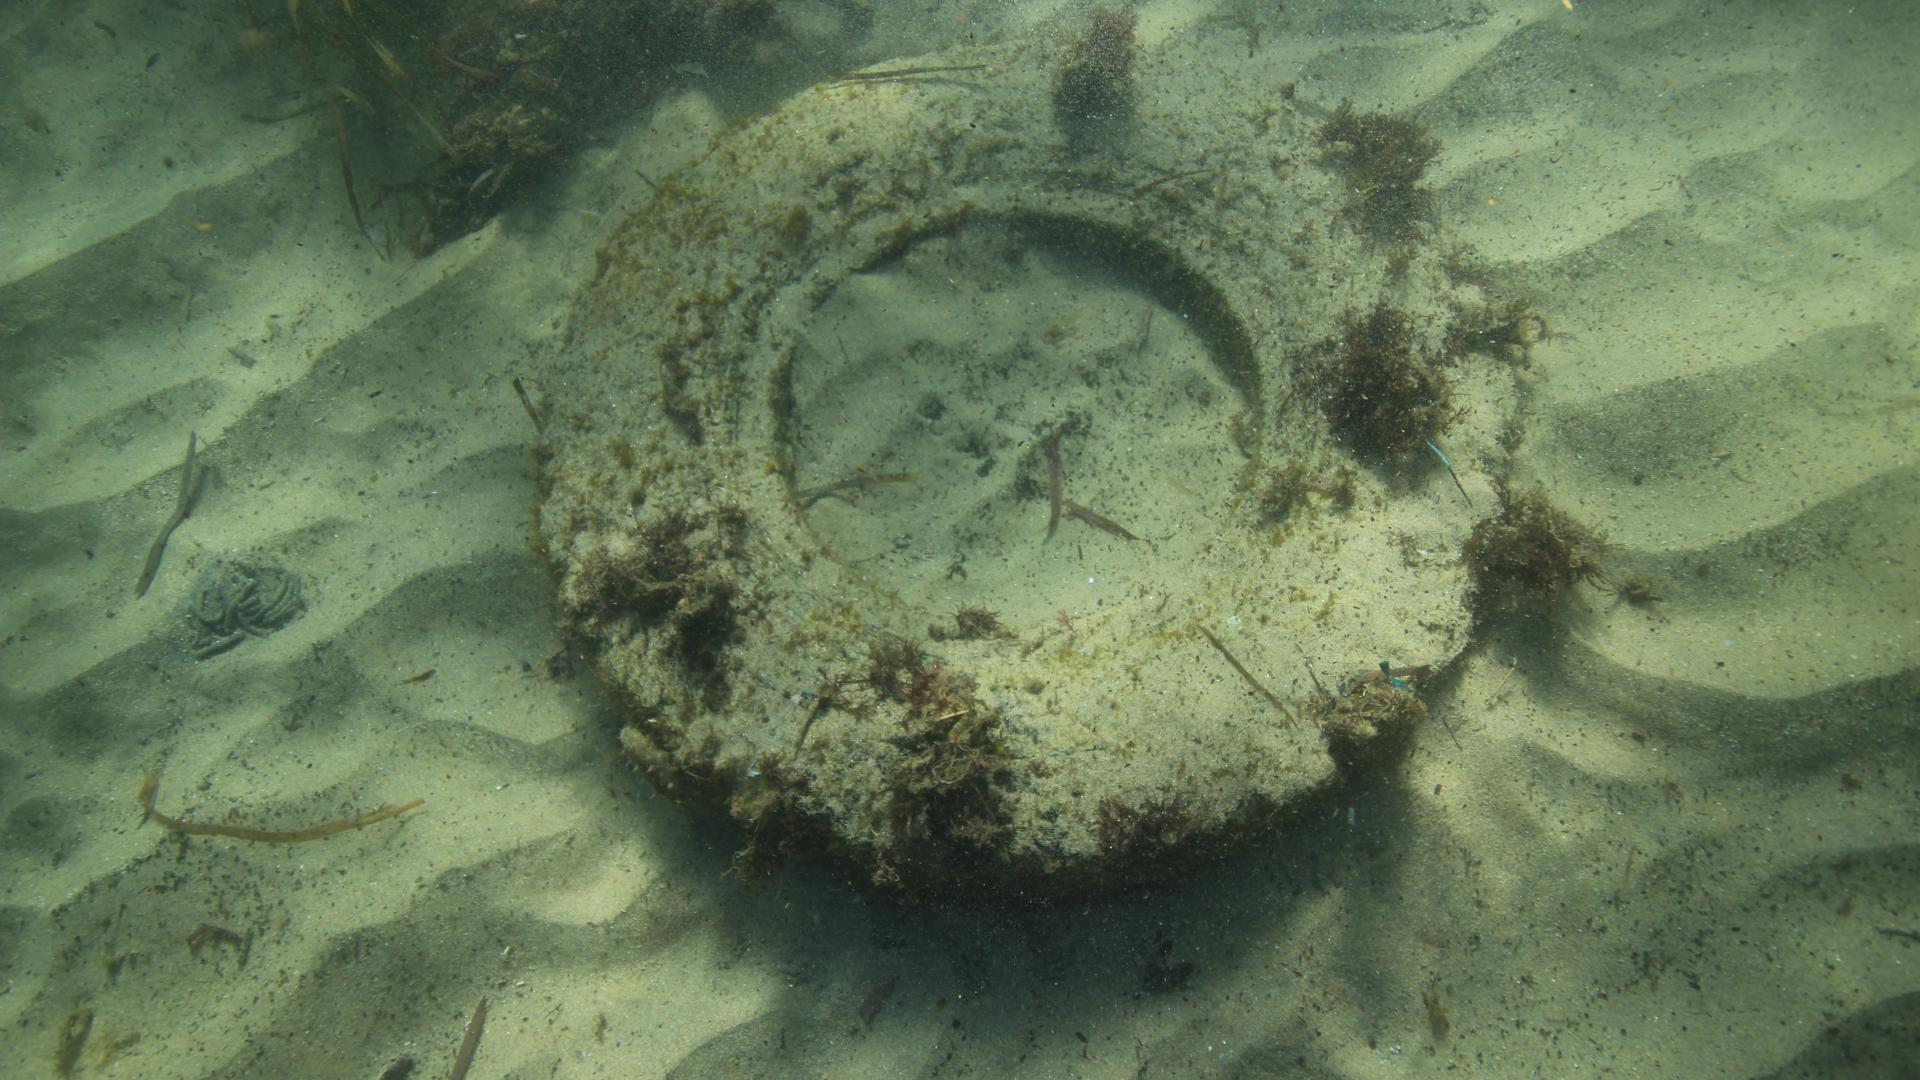tire: (534, 40, 1511, 897)
